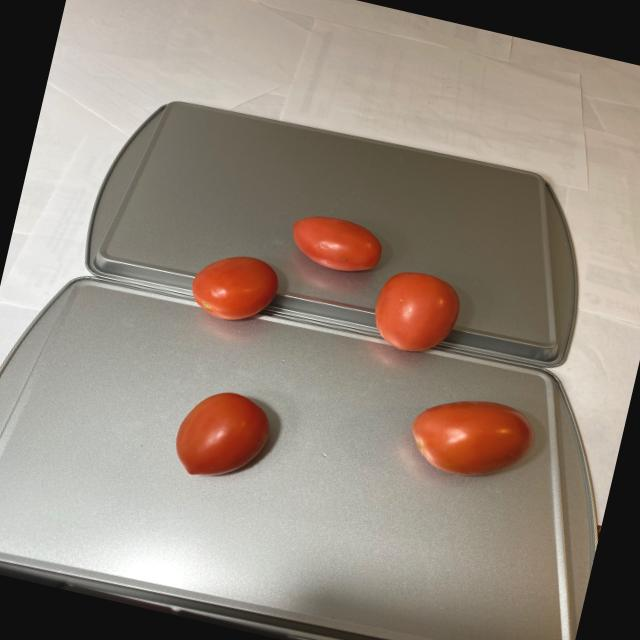tomato: (183, 188, 477, 370), (405, 383, 543, 491), (172, 378, 276, 493)
